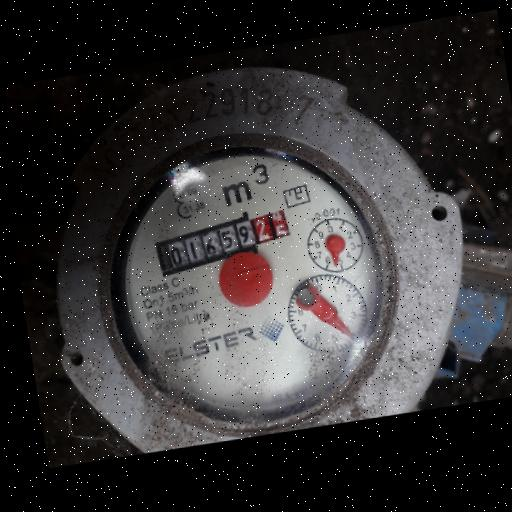0: (167, 239, 190, 271)
1: (184, 233, 207, 265)
2: (253, 212, 276, 244)
4: (269, 209, 290, 239)
5: (219, 223, 242, 254)
6: (202, 227, 225, 259)
9: (236, 218, 259, 249)
border_water_meter_number: (150, 202, 301, 278)
